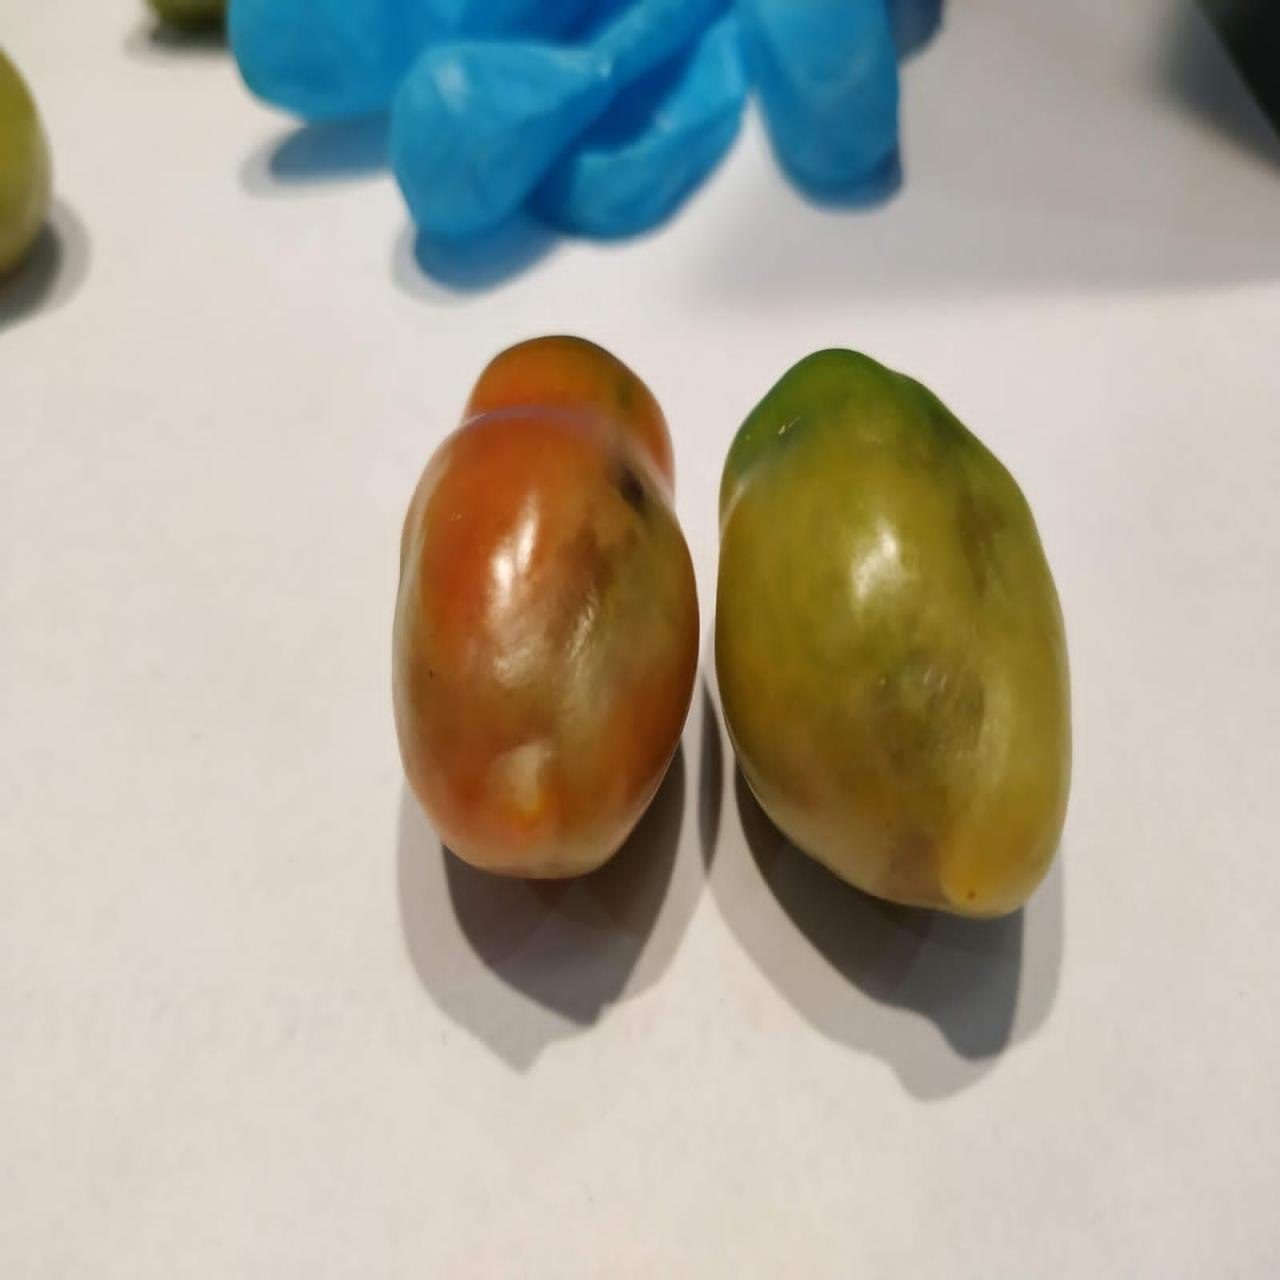T_F_R: (716, 348, 1073, 915), (393, 335, 699, 878)
